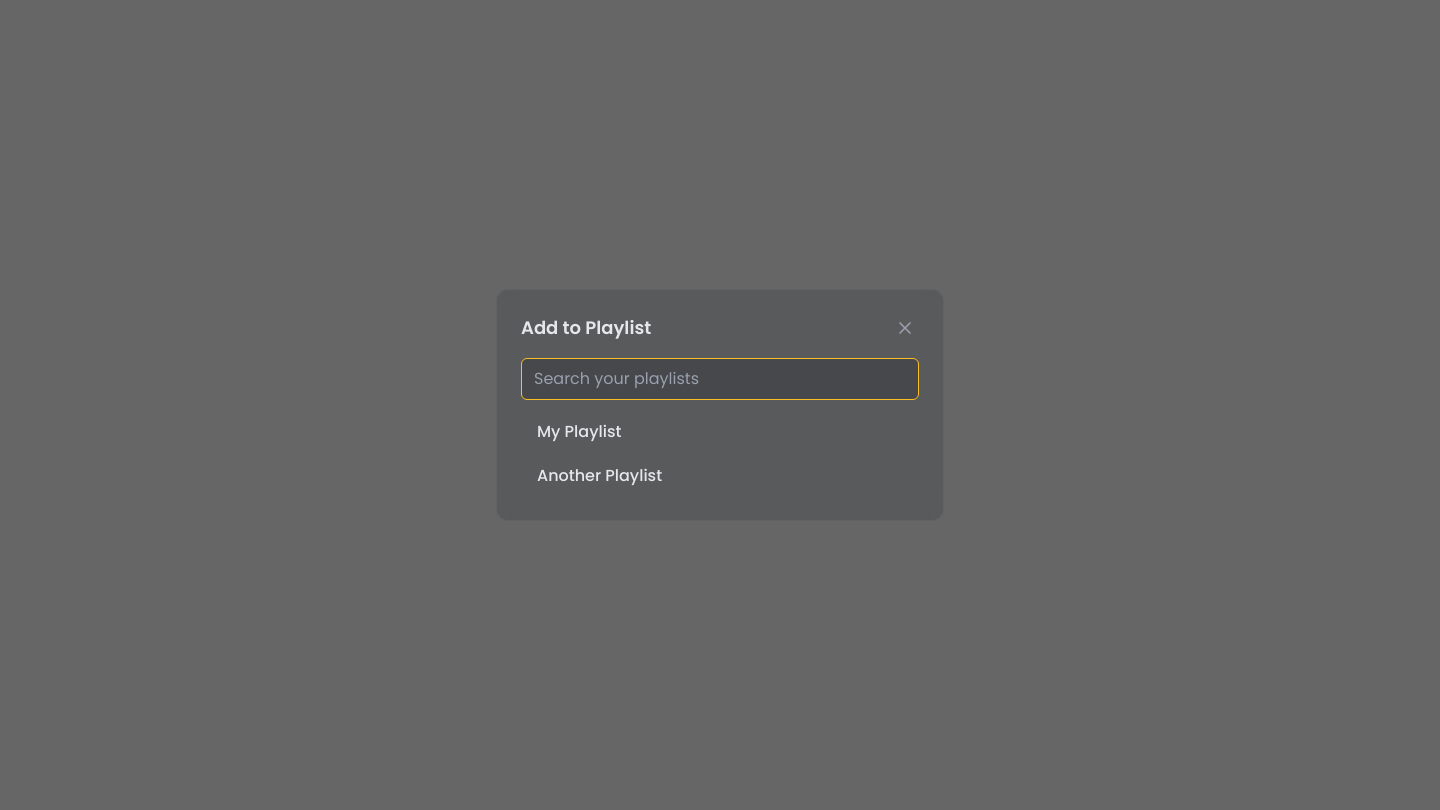
Test: AddToPlaylistModal › error handling › shows API error message when available
Click the button "My Playlist".
click(579, 432)  # box left=521, top=412, right=919, bottom=452
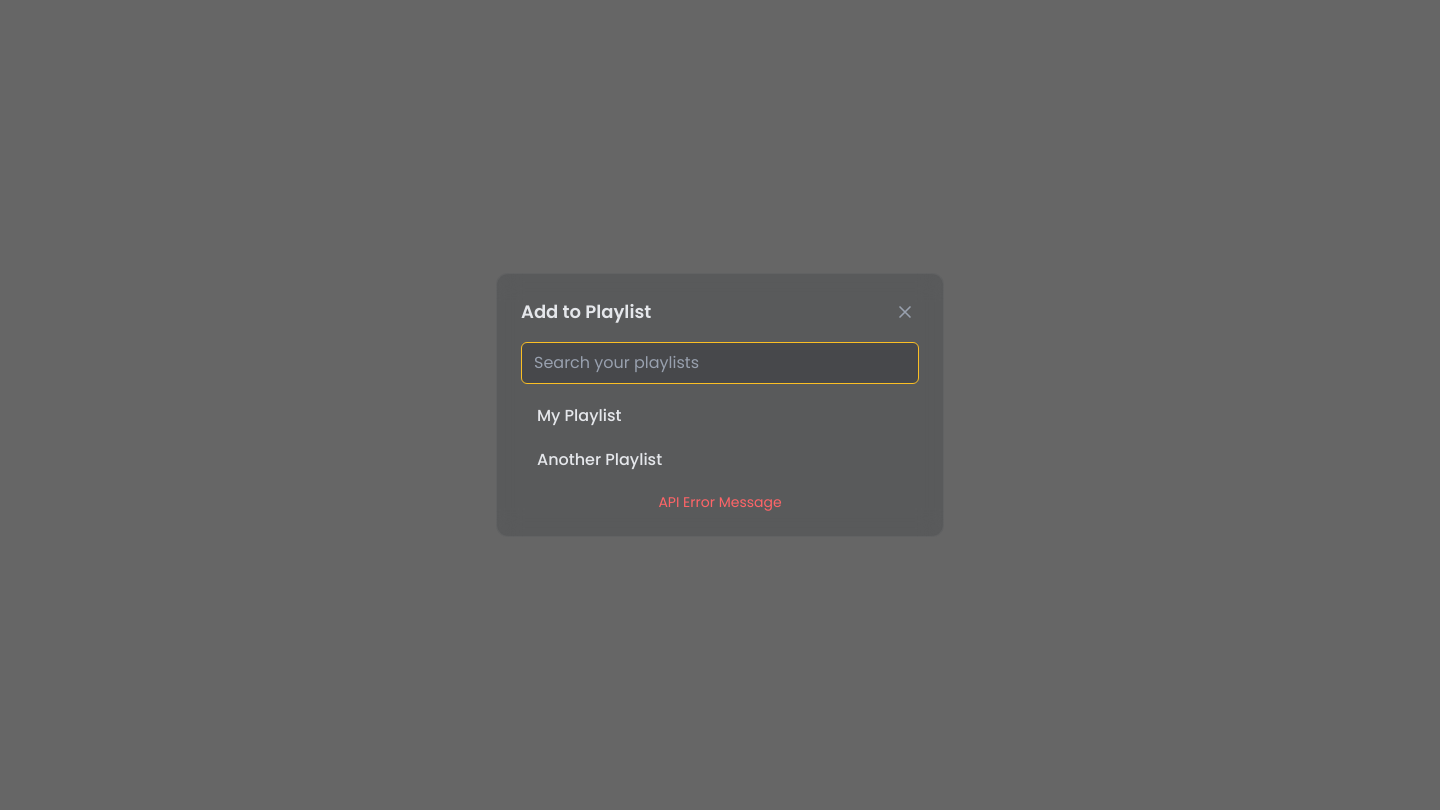
Now the text "API Error Message" is shown, box left=658, top=492, right=782, bottom=512
